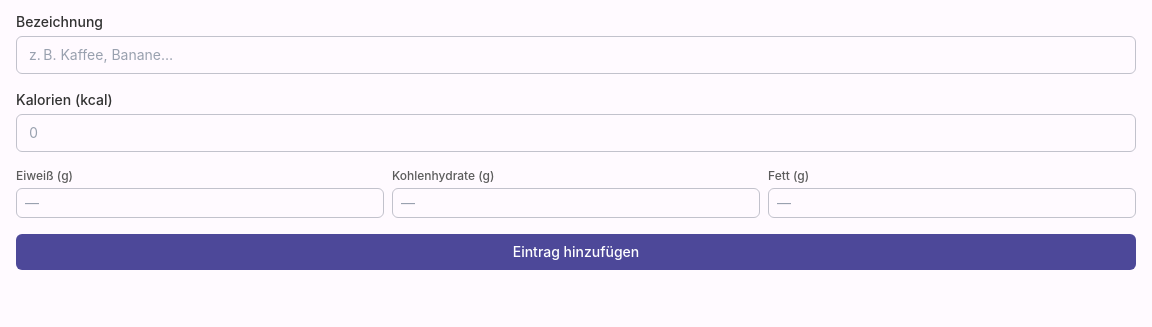
QuickEntryForm › shows validation errors when submitting empty form
Click the button "Eintrag hinzufügen".
click(576, 252)  # box [16,234,1136,270]
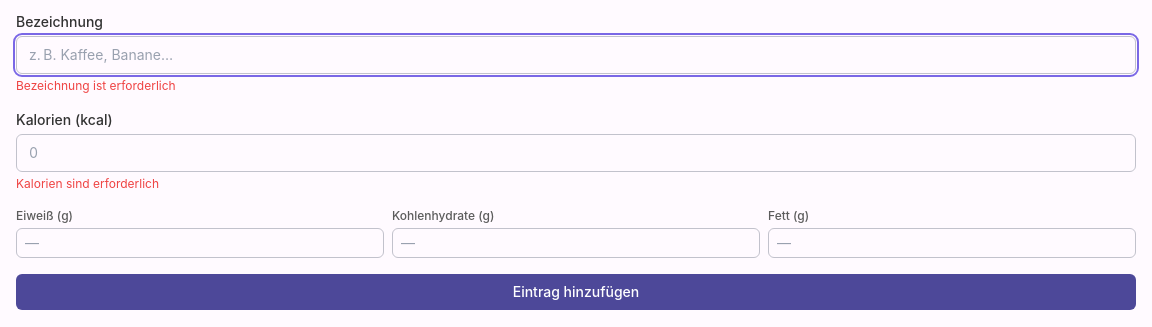
Check: the text "Bezeichnung ist erforderlich" is shown, box [16,78,176,93]
Check: the text "Kalorien sind erforderlich" is shown, box [16,176,159,191]
